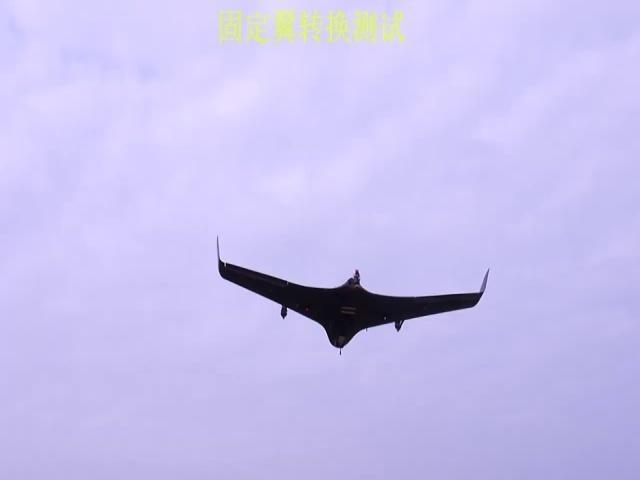Airplane: (216, 235, 489, 354)
